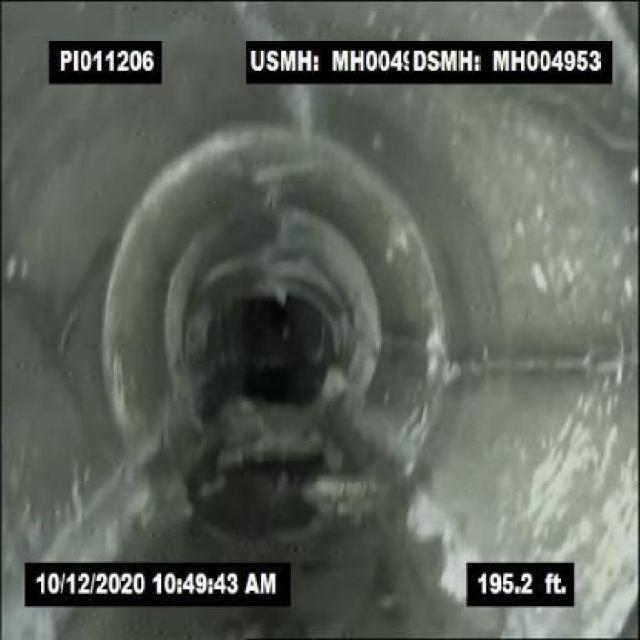Crack: (41, 463, 128, 560), (457, 338, 637, 384)
